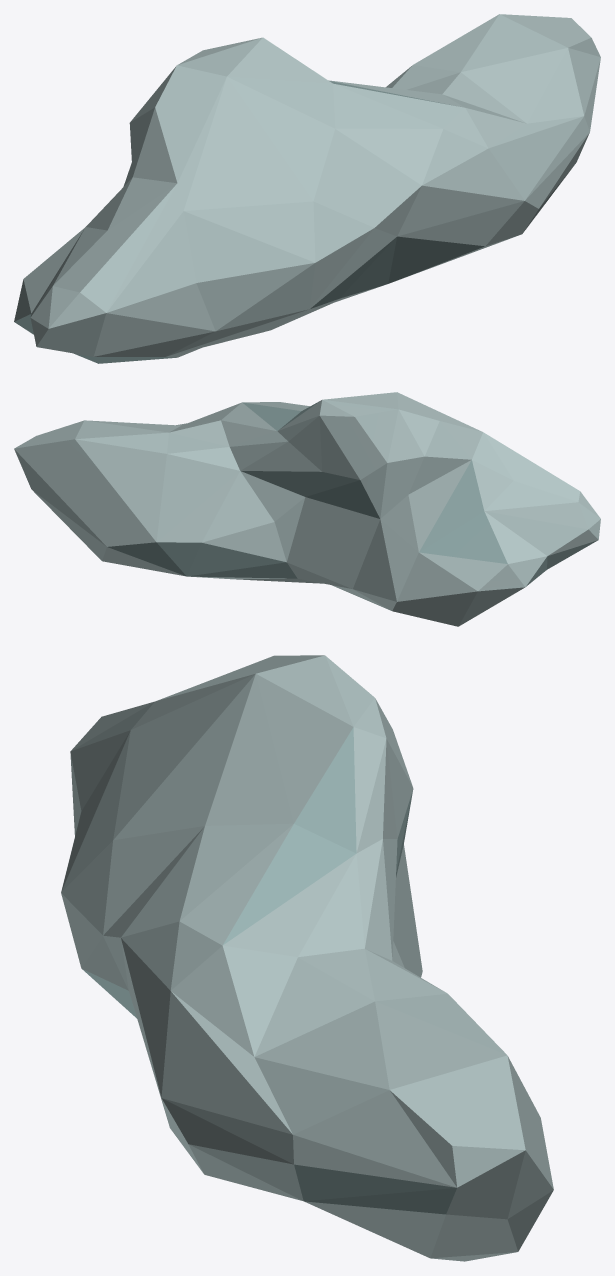
The model's file is PIESA4.fbx.
3 renders of one model, top to bottom at view 1: azimuth 30°, elevation 25°; view 2: azimuth 150°, elevation 25°; view 3: azimuth 270°, elevation 25°, orthographic. The views are drawn at different scales.
Parts seen in each view (by area): view 1: Nube02; view 2: Nube02; view 3: Nube02.
Part boxes in pixels (x1=…): Nube02: x1=14, y1=14, x2=600, y2=363; Nube02: x1=14, y1=392, x2=600, y2=626; Nube02: x1=61, y1=655, x2=553, y2=1261.
Size of the model in its own units: 841 by 315 by 367.
